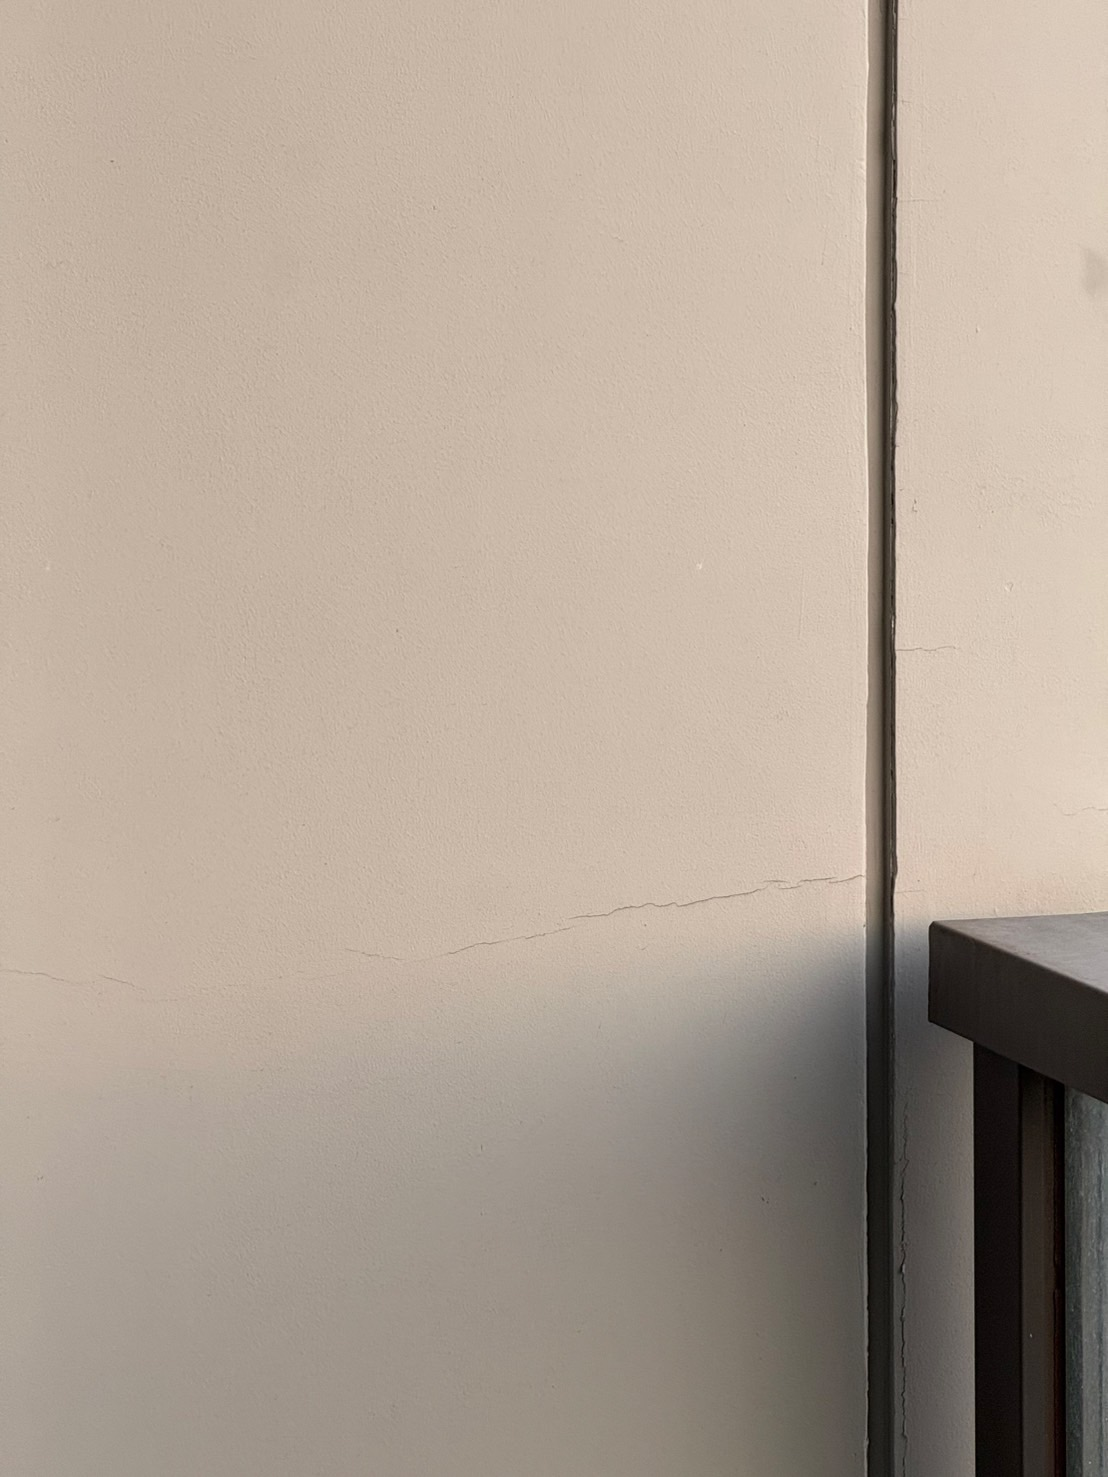Low: (1, 862, 872, 1035)
